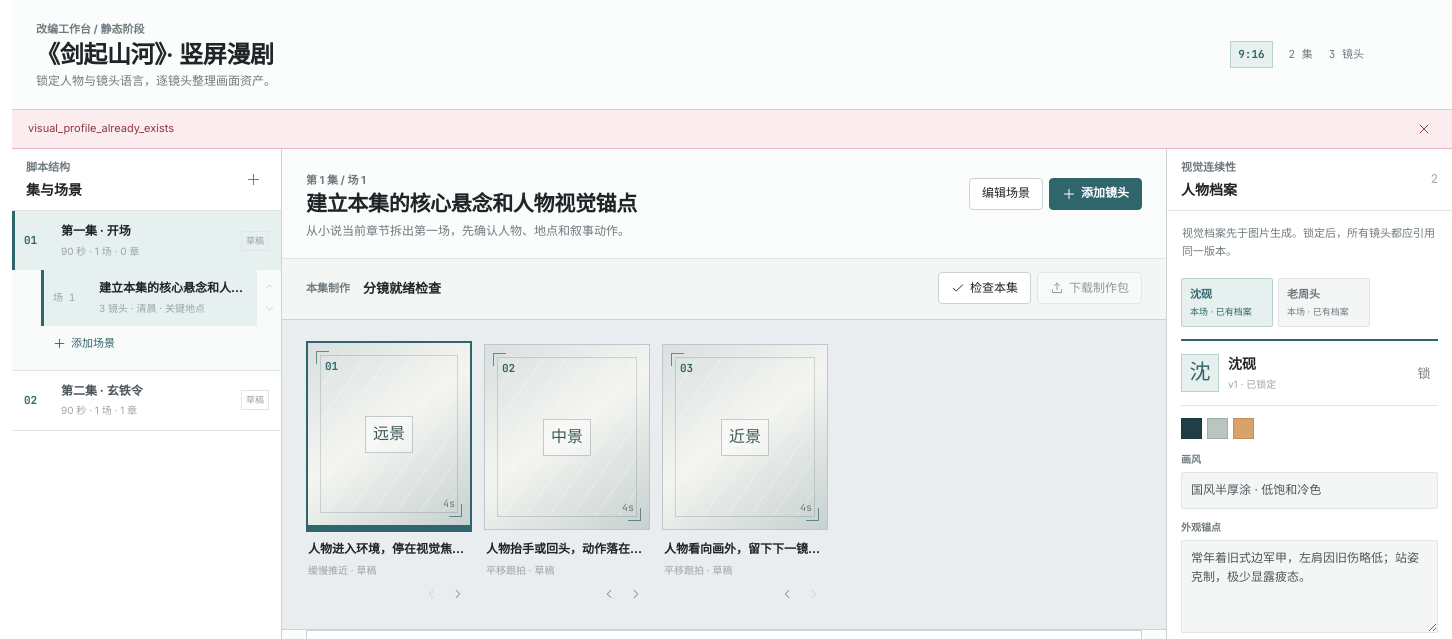
Scenario: storyboard static editing workflow › switches the inspector between every character bound to the scene
This screenshot has width=1452, height=639.
Expected: the navigation bar is shown, [1181,278,1370,327]
Click the button "老周头 本场 · 已有档案": x=1324, y=302 [1278,278,1370,327]
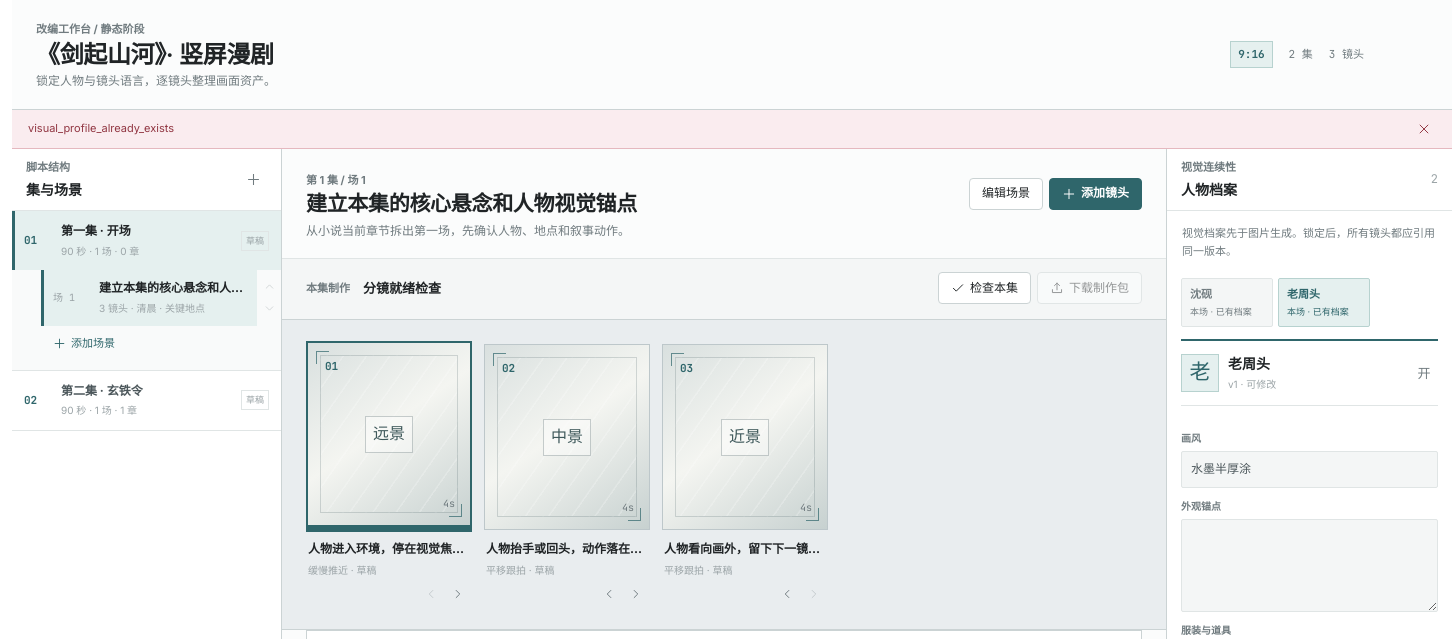
Now the header "老 老周头 v1 · 可修改 开" is shown, box [1181,341,1438,406]
